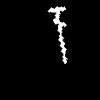double_crochet: (48, 7, 66, 63)
